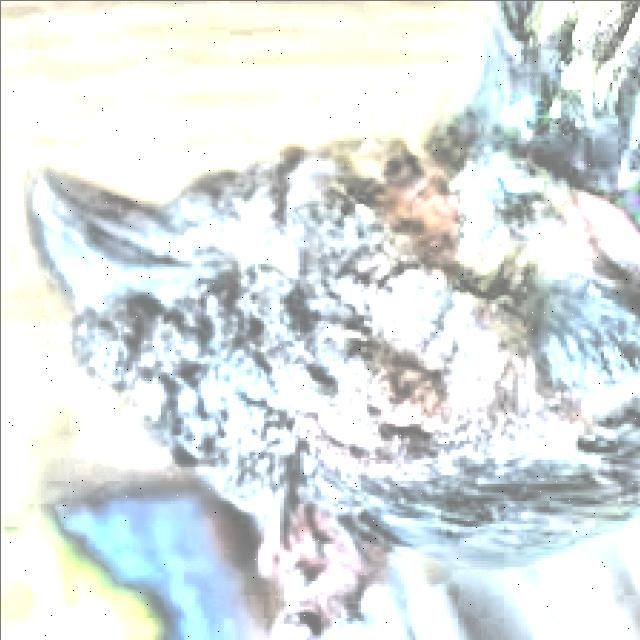Fowlpox: (42, 111, 580, 625)
